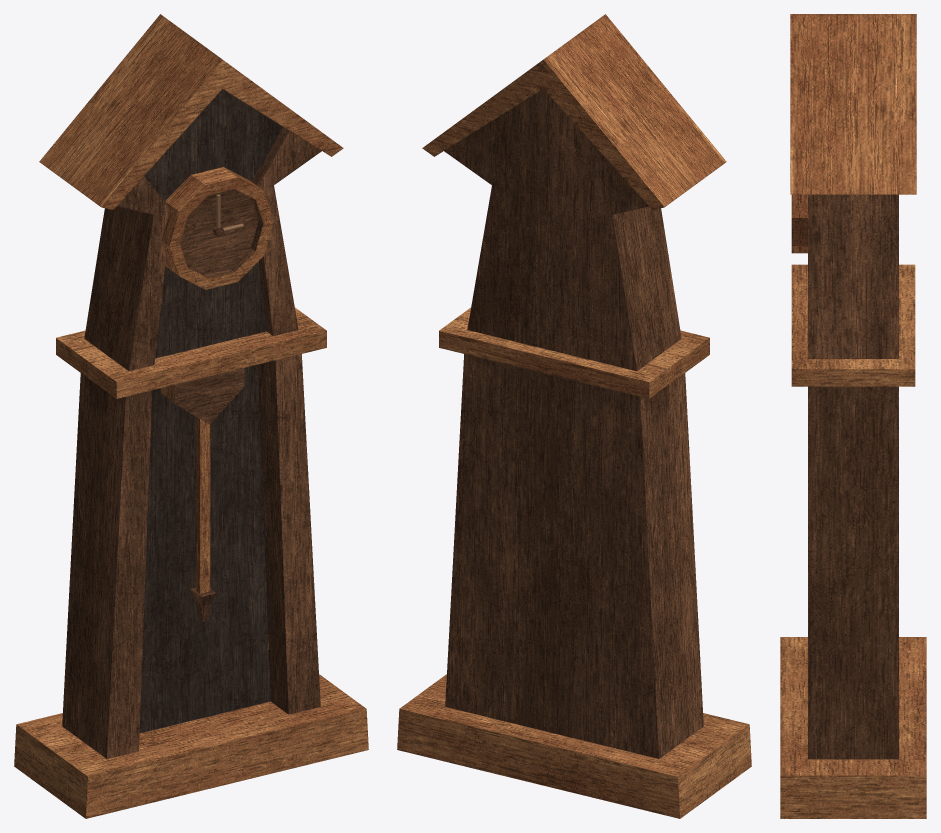
File: PBR - Metallic Roughness Alpha-blend.glb
3 renders of one model, left to right at view 1: azimuth 30°, elevation 25°; view 2: azimuth 150°, elevation 25°; view 3: azimuth 270°, elevation 25°, orthographic.
Parts seen in each view (by area): view 1: SM_grandpa_clock_body_geo2, SM_grandpa_clock_hand_geo3; view 2: SM_grandpa_clock_body_geo2; view 3: SM_grandpa_clock_body_geo2.
Part boxes in pixels (left/top/right/bottom): SM_grandpa_clock_body_geo2: left=14, top=14, right=368, bottom=818; SM_grandpa_clock_hand_geo3: left=190, top=416, right=216, bottom=621; SM_grandpa_clock_body_geo2: left=397, top=14, right=751, bottom=818; SM_grandpa_clock_body_geo2: left=780, top=14, right=926, bottom=818.
Size of the model in its own units: 0.821 by 2 by 0.3604.
3 materials, 3 textured.
